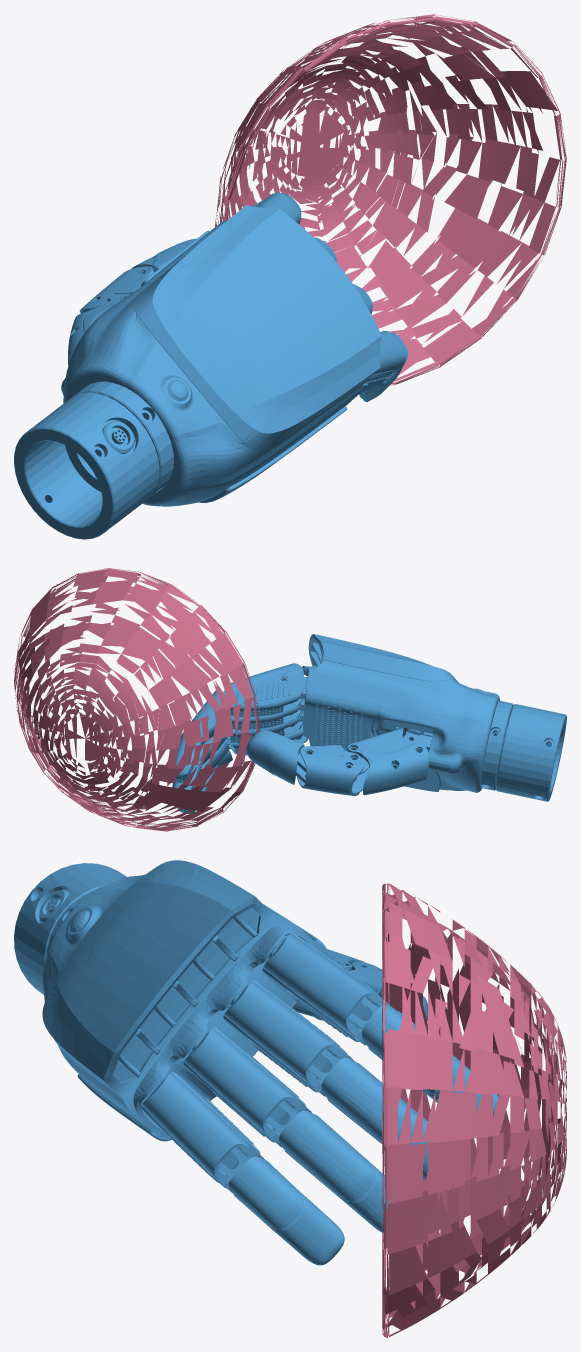
3 renders of one model, top to bottom at view 1: azimuth 30°, elevation 25°; view 2: azimuth 150°, elevation 25°; view 3: azimuth 270°, elevation 25°, orthographic. The views are drawn at different scales.
Visible parts, largest first — view 1: 5; view 2: 5; view 3: 5.
Boxes of the visible parts, x1=… form: 5: x1=14, y1=14, x2=566, y2=539; 5: x1=14, y1=568, x2=566, y2=831; 5: x1=14, y1=860, x2=566, y2=1337.
Bounding box in the file's own units: 0.299 × 0.1584 × 0.1917.
